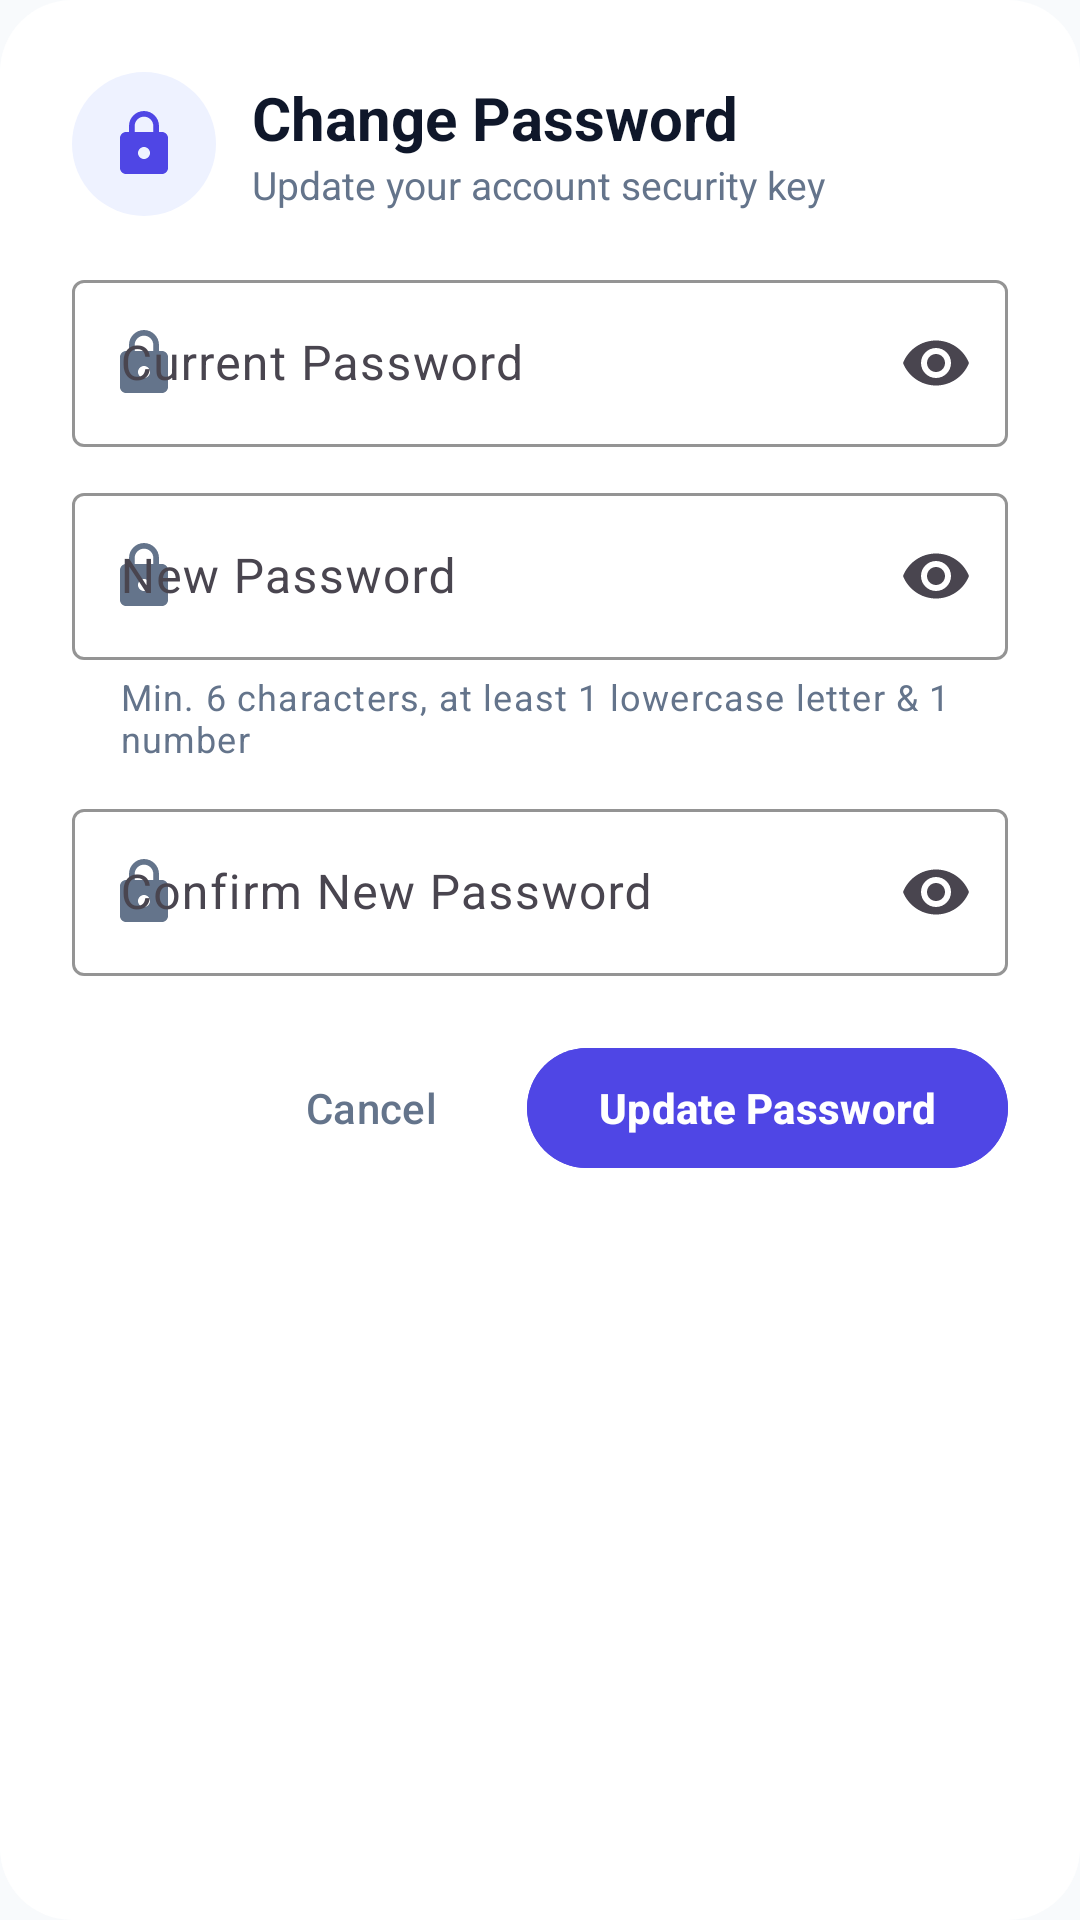

Point at icon controls on the screen. Image size 1080 x 1920, points as point (x, y).
lock: point (144, 142)
